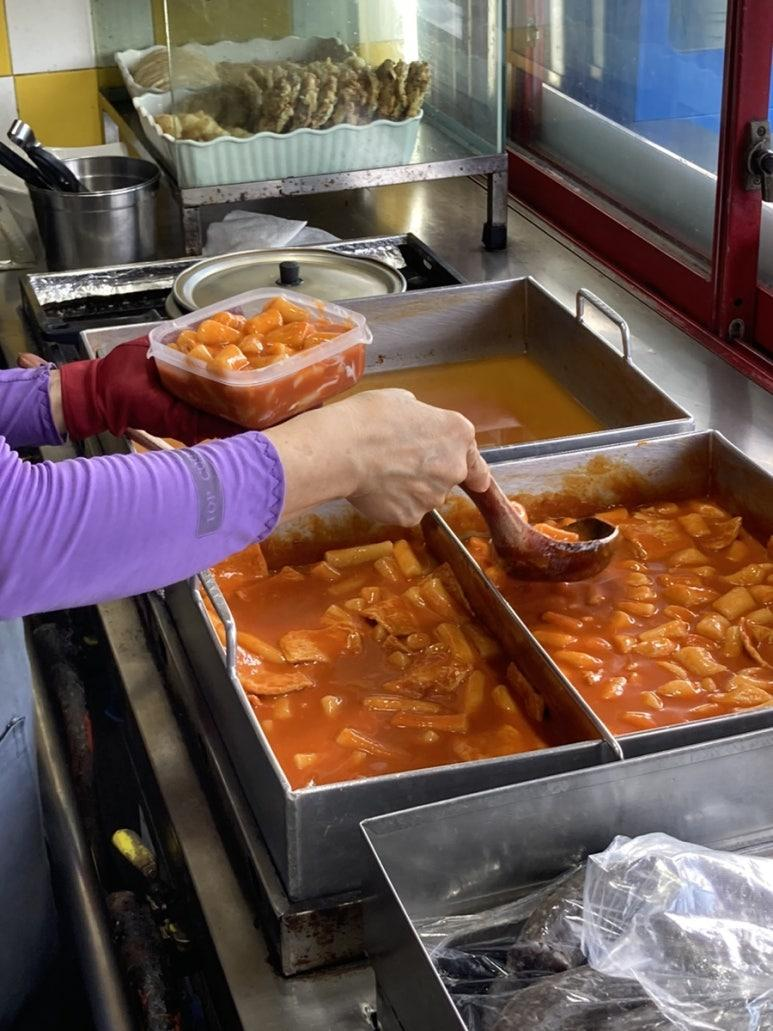Lunch Box: (148, 288, 371, 429)
